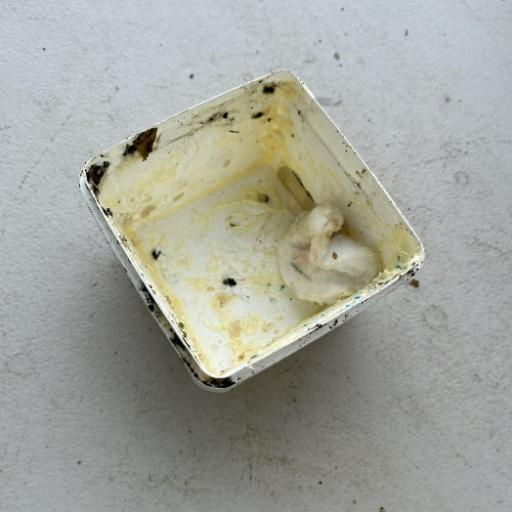Plastic: (78, 68, 425, 392)
